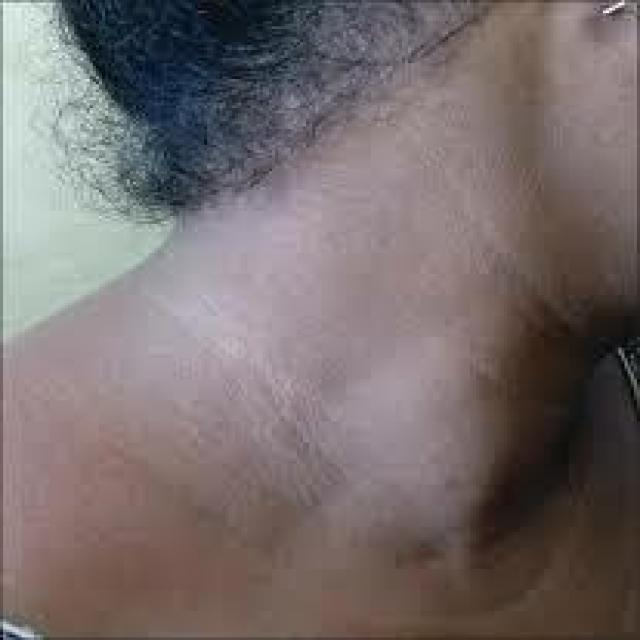Acanthosis Nigricans: (59, 122, 556, 633)
